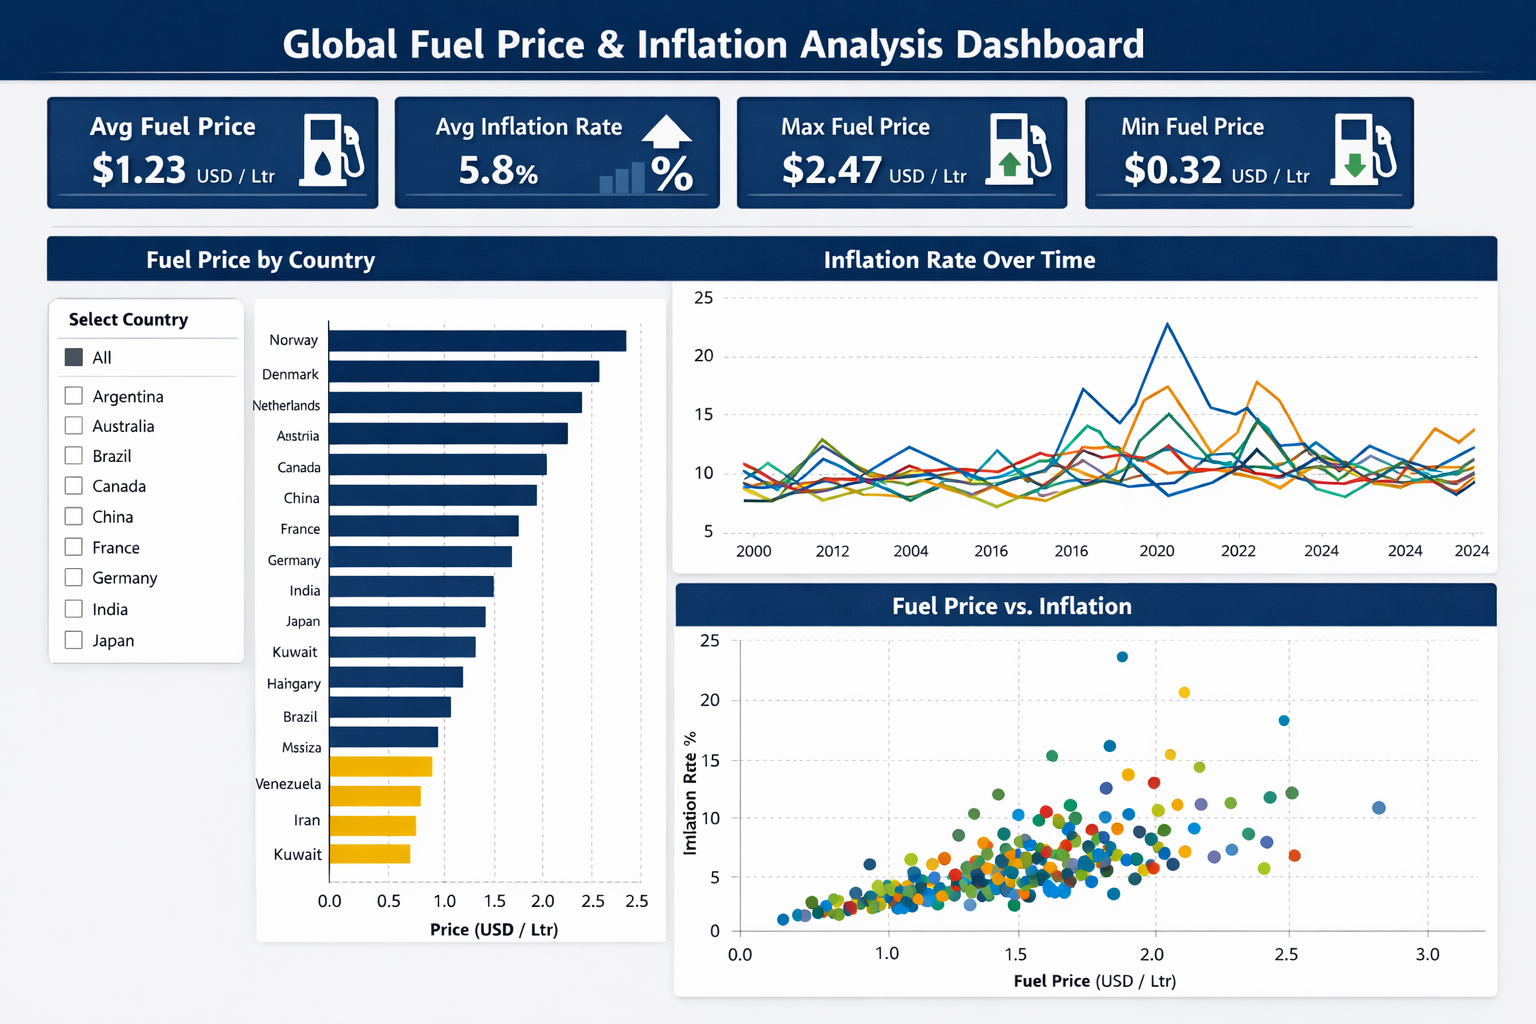

What the dashboard file says about the page in this screenshot:
{"tool":"powerbi","page":{"name":"Page 1","canvas":[1709,1123],"ordinal":0},"visuals":[{"type":"card","title":"Avg Fuel Price","fields":{"Values":["Measure Metrics.Avg Fuel Price"]},"box":[0,137.5,428.6,110],"z":0},{"type":"card","title":"Avg Inflation Rate","fields":{"Values":["Measure Metrics.Avg Inflation (Adjusted)"]},"box":[456.1,139.8,398.8,107.7],"z":1000},{"type":"card","title":"Max Fuel Price","fields":{"Values":["Measure Metrics.Max Fuel Price"]},"box":[875.5,139.8,417.1,110],"z":2000},{"type":"card","title":"Min Fuel Price","fields":{"Values":["Measure Metrics.Min Fuel Price"]},"box":[1313.2,139.8,394.2,110],"z":3000},{"type":"clusteredBarChart","title":"Fuel Price by Country","fields":{"Y":["Sum(manifest_cleaned.price_2023_usd_ltr)"],"Category":["country_lookup.country"]},"box":[339.2,272.7,536.3,850.3],"z":4000},{"type":"lineChart","title":"Inflation Trend Over Time","fields":{"Category":["all_countries_cleaned.year"],"Y":["Measure Metrics.Avg Inflation (Adjusted)"],"Series":["all_countries_cleaned.country"]},"box":[915.3,312.6,793.9,364.3],"z":5000},{"type":"scatterChart","title":" Fuel Price vs Inflation","fields":{"X":["Sum(manifest_cleaned.price_2023_usd_ltr)"],"Y":["Measure Metrics.Avg Inflation (Adjusted)"],"Size":["Sum(all_countries_cleaned.us_cpi)"],"Series":["country_lookup.country"]},"box":[915.3,701.7,793.9,400.3],"z":6000},{"type":"slicer","fields":{"Values":["country_lookup.country"]},"box":[0,272.1,339.6,584.7],"z":7000},{"type":"textbox","box":[0,0,1707.4,116.9],"z":8000}]}

Visuals, with their boxes in screenshot pixels (x1, y1, x2, y2), scaled from the page's 1709x1123 canvas onto the 1536x1024 screenshot:
"Avg Fuel Price" card: <bbox>0, 125, 385, 226</bbox>
"Avg Inflation Rate" card: <bbox>410, 127, 768, 226</bbox>
"Max Fuel Price" card: <bbox>787, 127, 1162, 228</bbox>
"Min Fuel Price" card: <bbox>1180, 127, 1535, 228</bbox>
"Fuel Price by Country" clusteredBarChart: <bbox>305, 249, 787, 1023</bbox>
"Inflation Trend Over Time" lineChart: <bbox>823, 285, 1535, 617</bbox>
" Fuel Price vs Inflation" scatterChart: <bbox>823, 640, 1535, 1005</bbox>
slicer - country_lookup.country: <bbox>0, 248, 305, 781</bbox>
textbox: <bbox>0, 0, 1535, 107</bbox>
